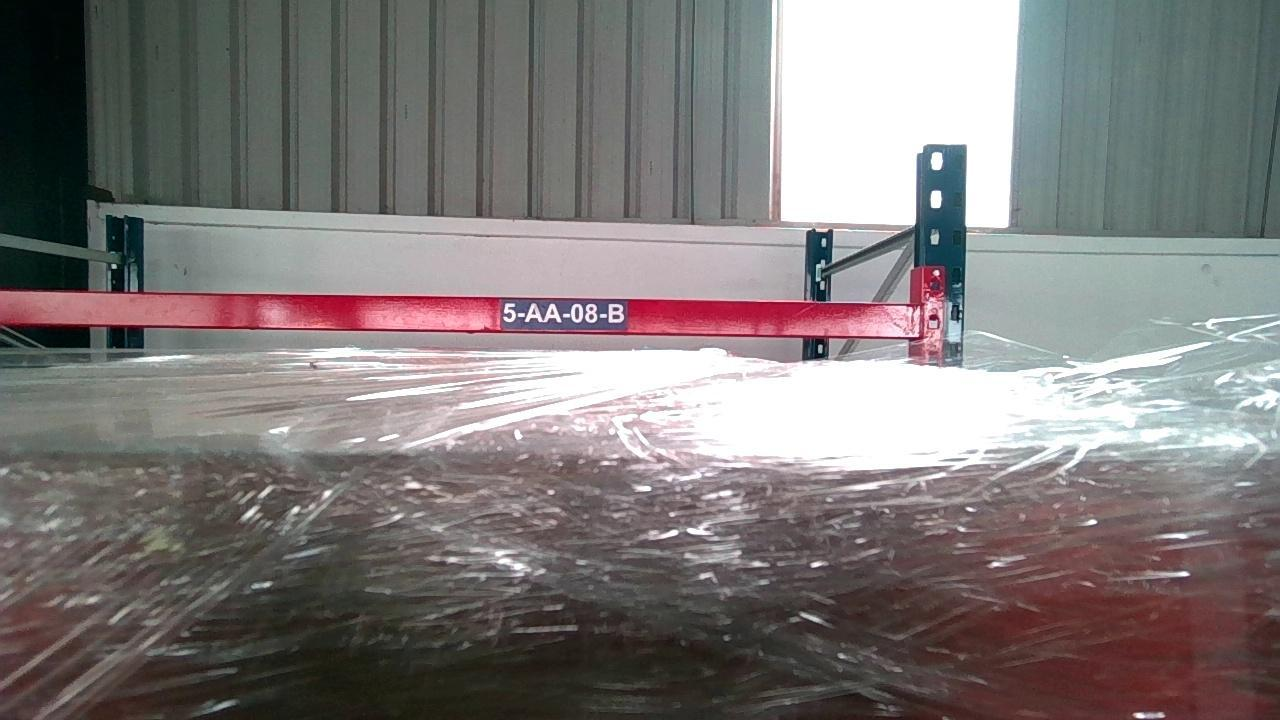h_rack: (0, 288, 915, 337)
